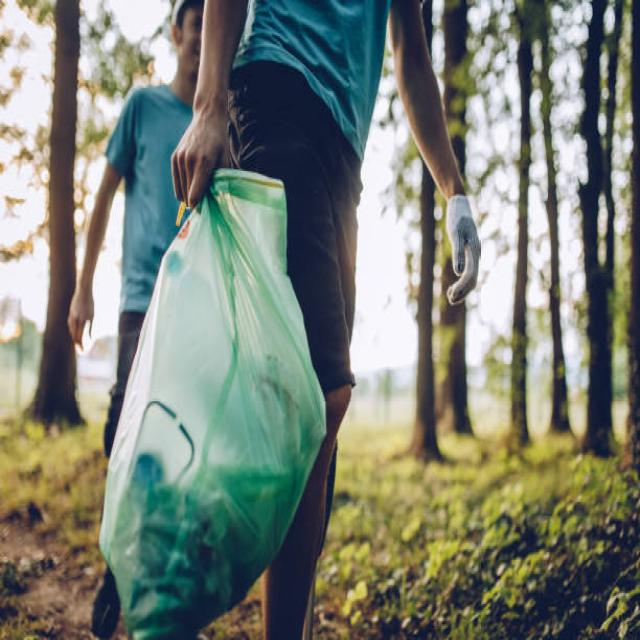trash: (75, 177, 334, 618)
